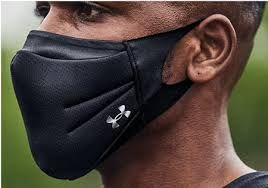with-mask: (7, 1, 229, 176)
